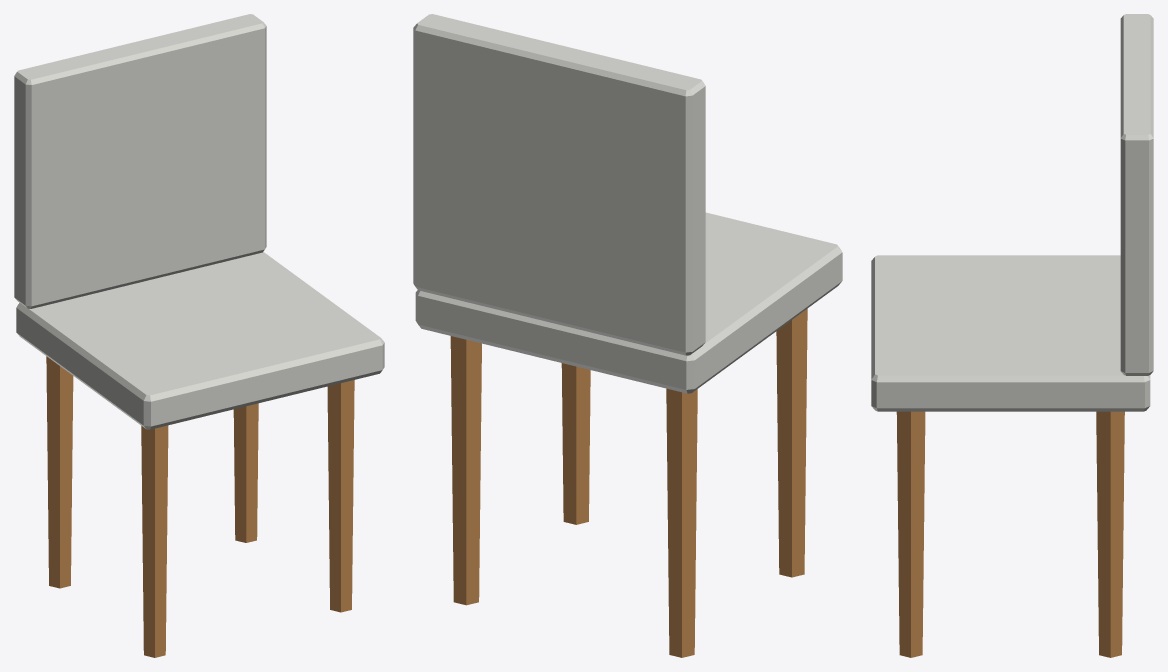
The model's file is modern_chair.obj.
The picture shows the model from 3 angles, left to right: view 1: azimuth 30°, elevation 25°; view 2: azimuth 150°, elevation 25°; view 3: azimuth 270°, elevation 25°; orthographic projection. The views are drawn at different scales.
Parts seen in each view (by area): view 1: modern_chair; view 2: modern_chair; view 3: modern_chair.
Boxes of the visible parts, x1,y1,x2,y2 form: modern_chair: (14, 14, 384, 657); modern_chair: (413, 14, 842, 657); modern_chair: (871, 14, 1153, 657).
Bounding box in the file's own units: 0.44 × 0.88 × 0.425.
